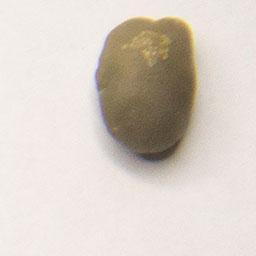peaberry: (93, 12, 199, 158)
